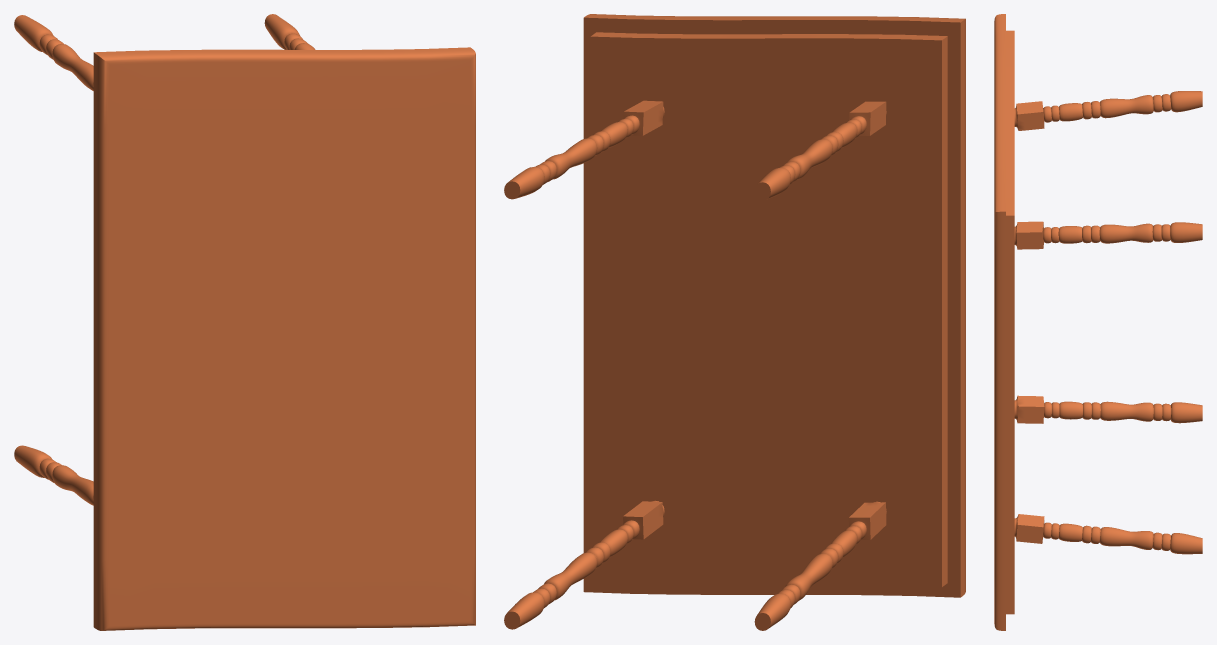
3 views of the same model, side by side, from view 1: azimuth 30°, elevation 25°; view 2: azimuth 150°, elevation 25°; view 3: azimuth 270°, elevation 25° (orthographic). The views are drawn at different scales.
Parts seen in each view (by area): view 1: Slide table; view 2: Slide table; view 3: Slide table.
Part boxes in pixels (left/top/right/bottom): Slide table: left=14, top=14, right=475, bottom=630; Slide table: left=504, top=14, right=965, bottom=630; Slide table: left=994, top=14, right=1202, bottom=630.
Size of the model in its own units: 0.9294 by 1.56 by 0.6089.
